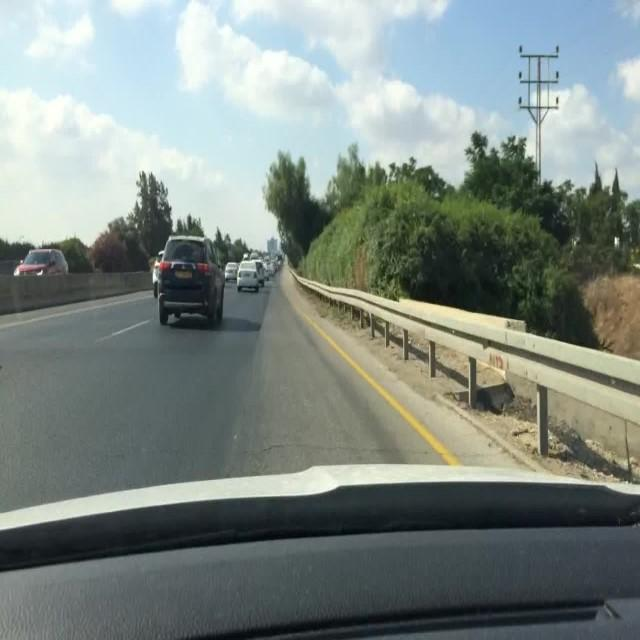normal: (155, 235, 225, 329), (12, 250, 69, 277), (236, 263, 262, 292)
